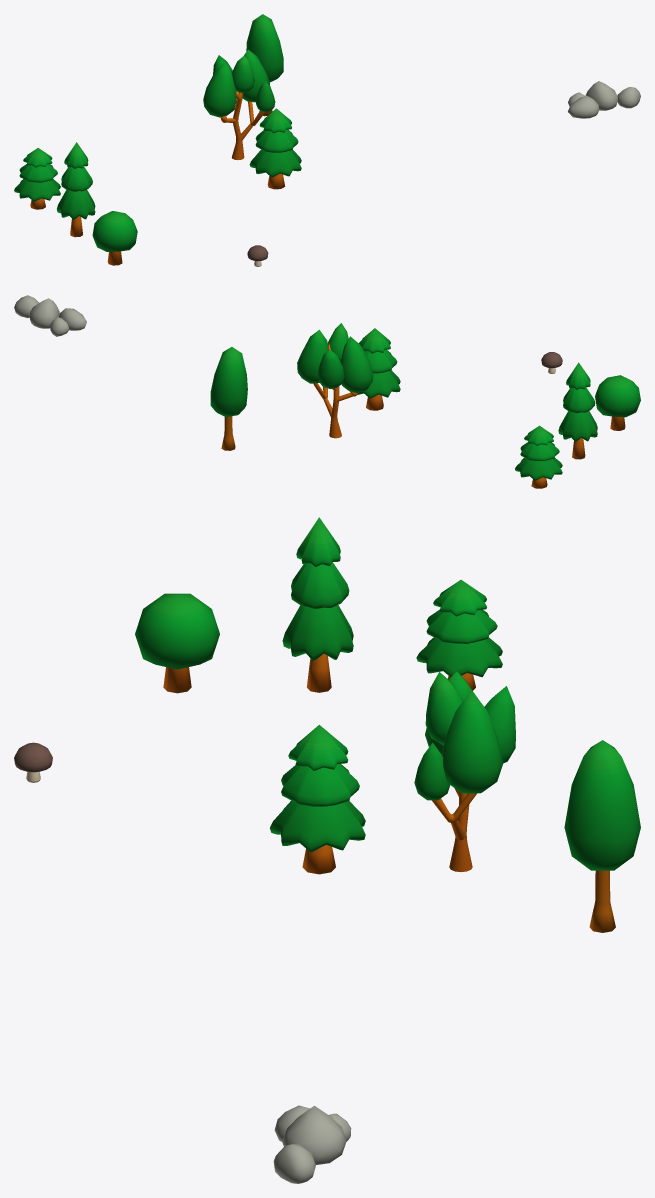
The model's file is nature-pack-runtime.glb.
3 views of the same model, one above another, from view 1: azimuth 30°, elevation 25°; view 2: azimuth 150°, elevation 25°; view 3: azimuth 270°, elevation 25° (orthographic). The views are drawn at different scales.
Parts seen in each view (by area): view 1: Tree_04, Tree_02, Tree_01, Tree_03, Bush_01, Stone_02, Tree_05; view 2: Tree_04, Tree_05, Tree_01, Tree_02, Tree_03, Bush_01, Stone_02, Mushroom_01; view 3: Tree_04, Tree_02, Tree_05, Tree_01, Bush_01, Tree_03, Stone_02, Mushroom_01.
Boxes of the visible parts, x1=… form: Tree_04: x1=203, y1=49, x2=275, y2=159; Tree_02: x1=249, y1=108, x2=301, y2=189; Tree_01: x1=57, y1=142, x2=95, y2=237; Tree_03: x1=14, y1=148, x2=60, y2=209; Bush_01: x1=92, y1=211, x2=137, y2=265; Stone_02: x1=568, y1=81, x2=640, y2=118; Tree_05: x1=246, y1=14, x2=283, y2=116; Tree_04: x1=297, y1=323, x2=373, y2=438; Tree_05: x1=210, y1=347, x2=247, y2=450; Tree_01: x1=558, y1=362, x2=597, y2=459; Tree_02: x1=357, y1=328, x2=400, y2=410; Tree_03: x1=515, y1=425, x2=562, y2=488; Bush_01: x1=595, y1=375, x2=640, y2=430; Stone_02: x1=14, y1=295, x2=86, y2=336; Mushroom_01: x1=541, y1=352, x2=562, y2=373; Tree_04: x1=414, y1=671, x2=515, y2=871; Tree_02: x1=270, y1=724, x2=365, y2=874; Tree_05: x1=564, y1=740, x2=640, y2=932; Tree_01: x1=282, y1=517, x2=353, y2=692; Bush_01: x1=135, y1=593, x2=219, y2=693; Tree_03: x1=416, y1=580, x2=502, y2=690; Stone_02: x1=273, y1=1105, x2=351, y2=1183; Mushroom_01: x1=14, y1=742, x2=52, y2=782.
Size of the model in its own units: 7.99 by 1.41 by 4.07.
Materials: 1 (1 with a texture image).
